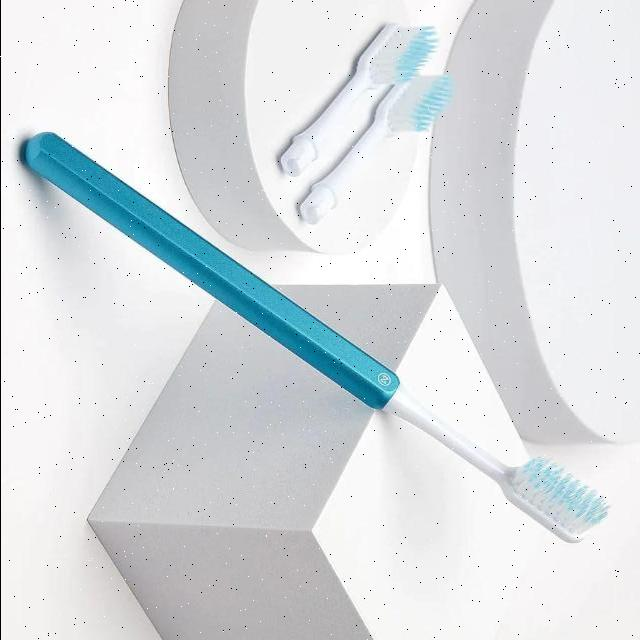toothbrush: (209, 308, 616, 540)
